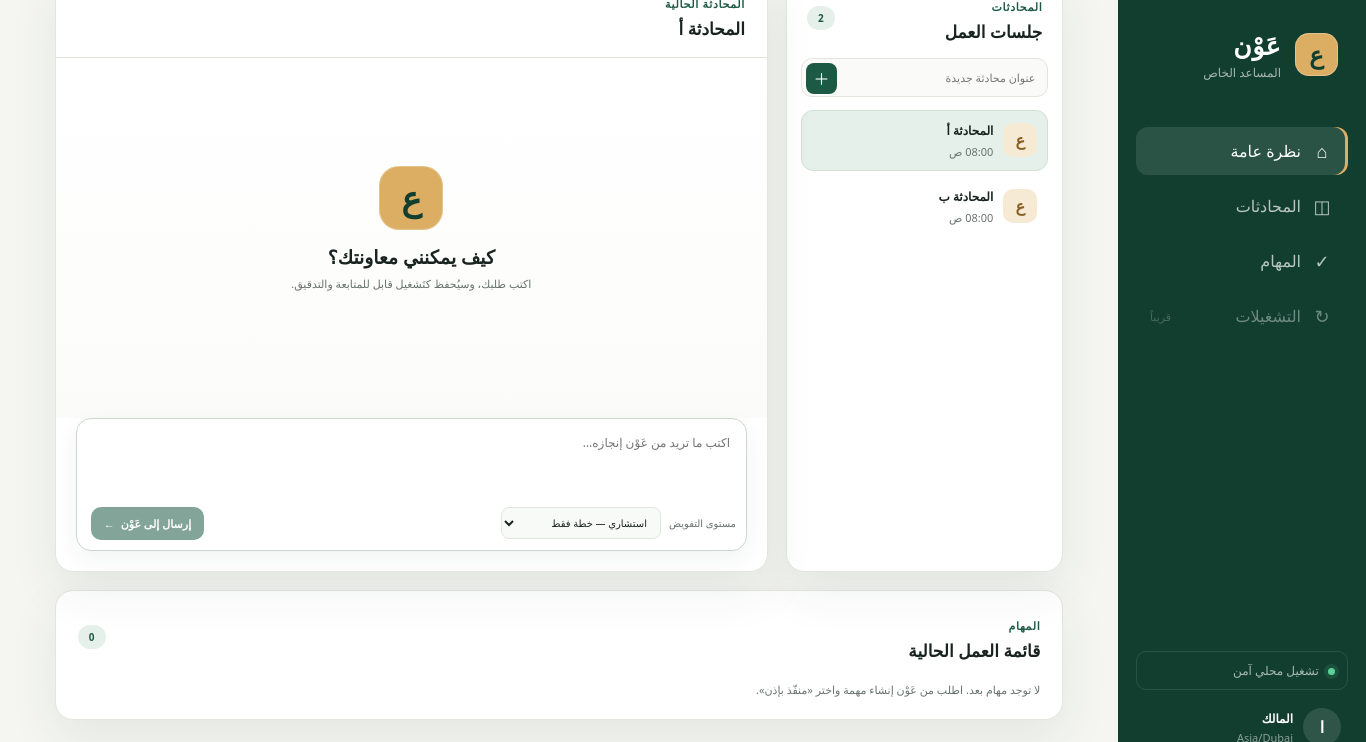
Test: FC-002 cancellation dashboard › keeps a delayed run response out of a newer conversation
(page scrolled)
Check: the heading "المحادثة أ" is shown, box [678, 16, 745, 40]
Type "تشغيل متأخر" into the text box with placeholder "اكتب ما تريد من عَوْن إنجازه…" at (411,459), box [77, 418, 746, 499]
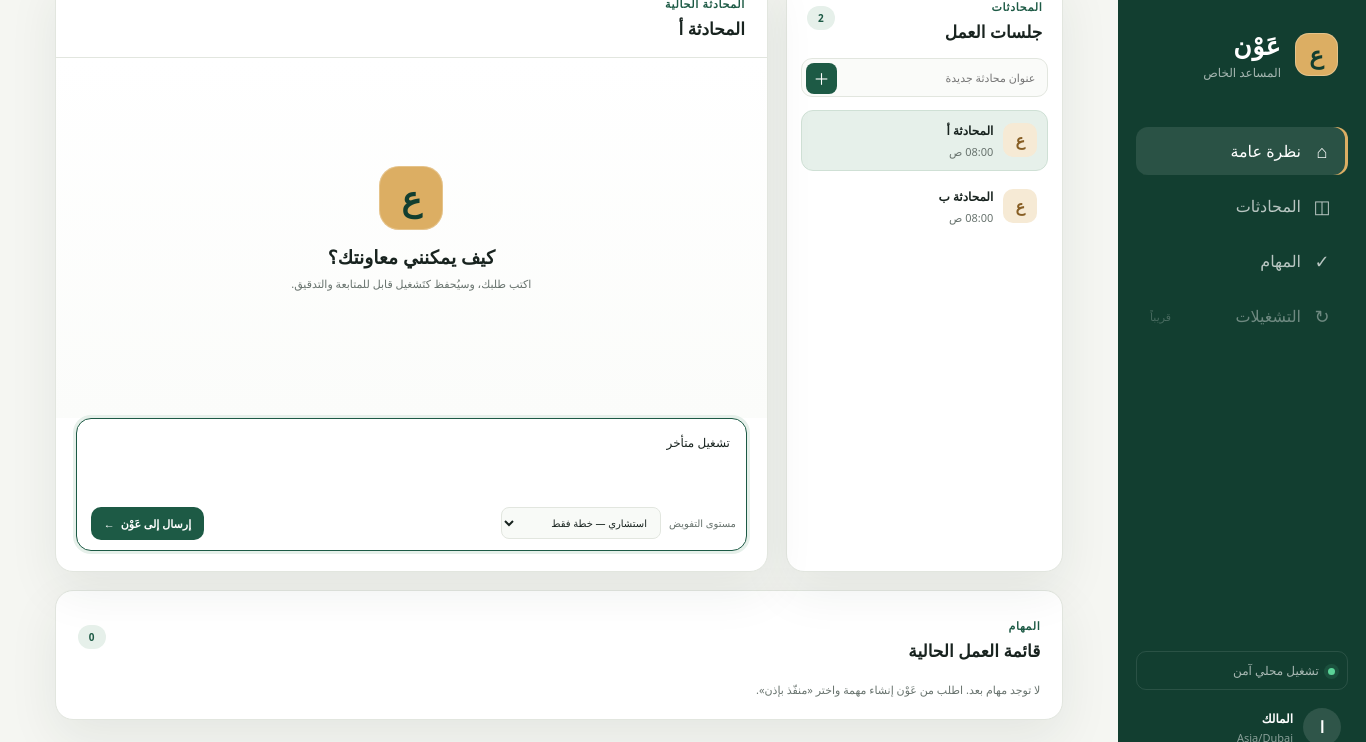
Click the button "إرسال إلى عَوْن←" at (147,523), box [91, 507, 204, 540]
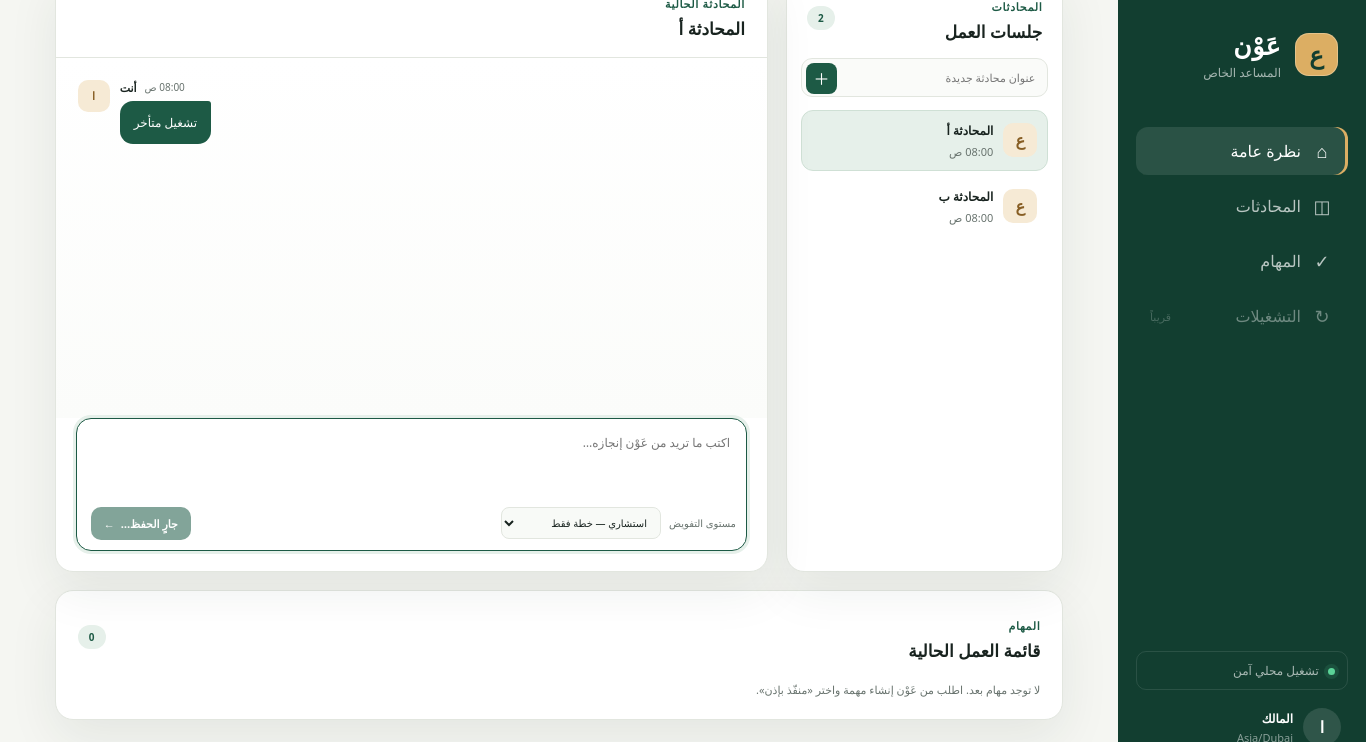
Check: the text "تشغيل متأخر" is shown, box [120, 100, 211, 144]
Click the button "ع المحادثة ب 08:00 ص" at (925,206), box [801, 176, 1048, 236]
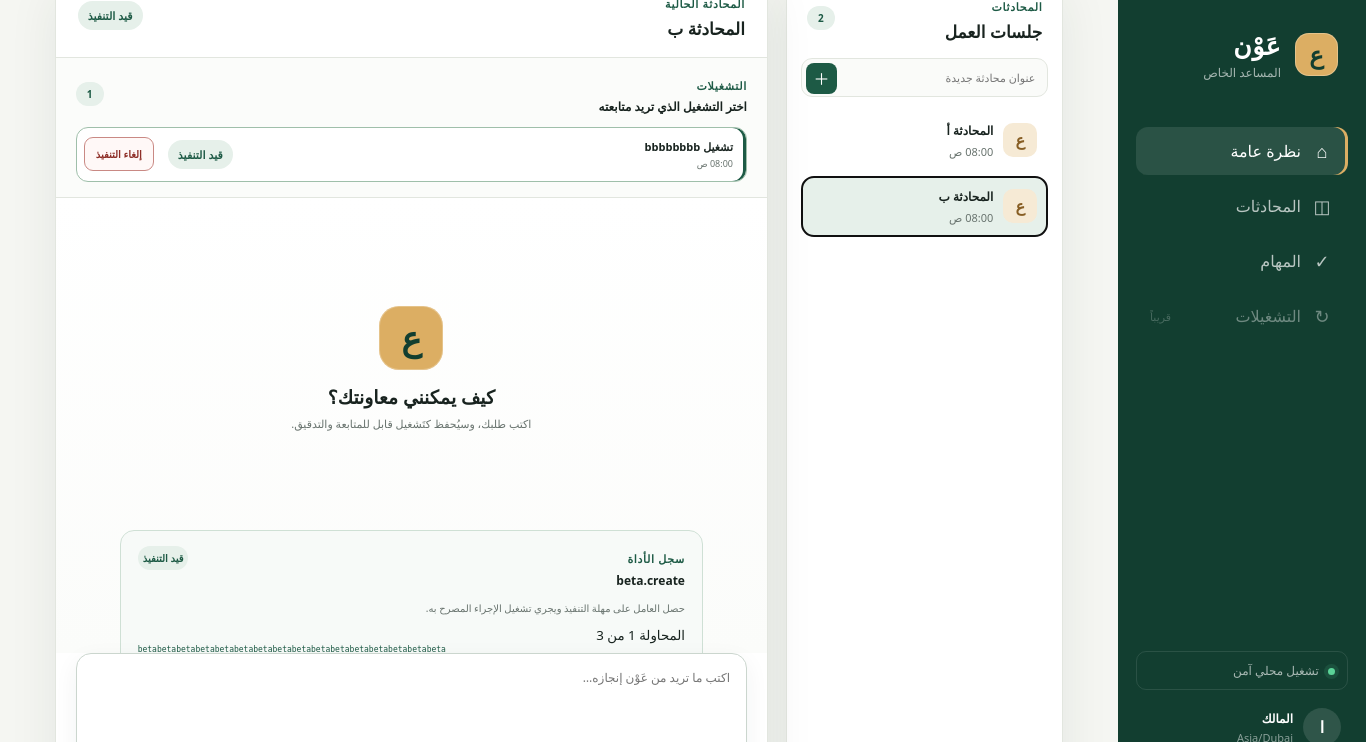
Check: the heading "alpha.create" is not shown
Check: the heading "beta.create" is shown, box [616, 572, 685, 588]
Click the button "ع المحادثة أ 08:00 ص" at (925,140), box [801, 110, 1048, 170]
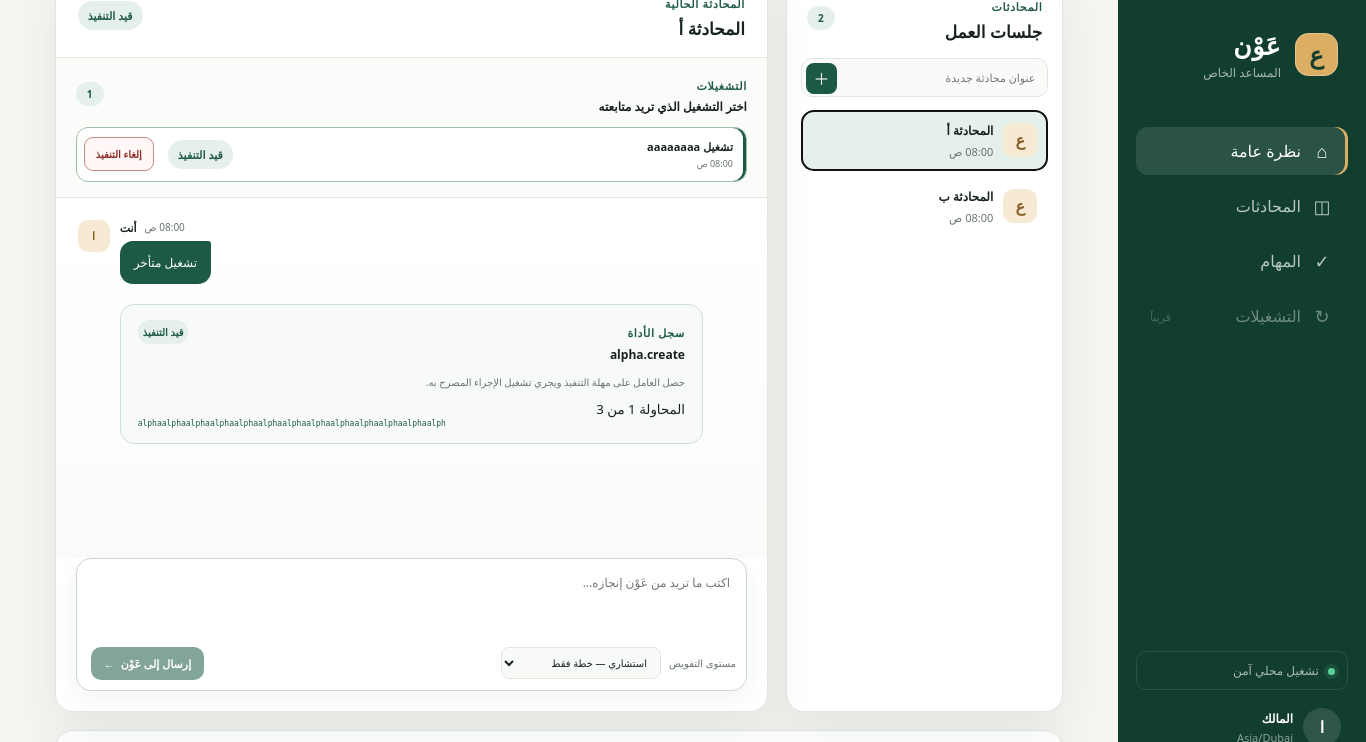
Check: the heading "alpha.create" is shown, box [610, 346, 685, 363]
